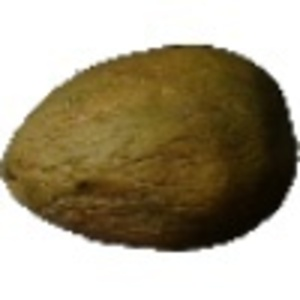mamão: (2, 39, 296, 255)
